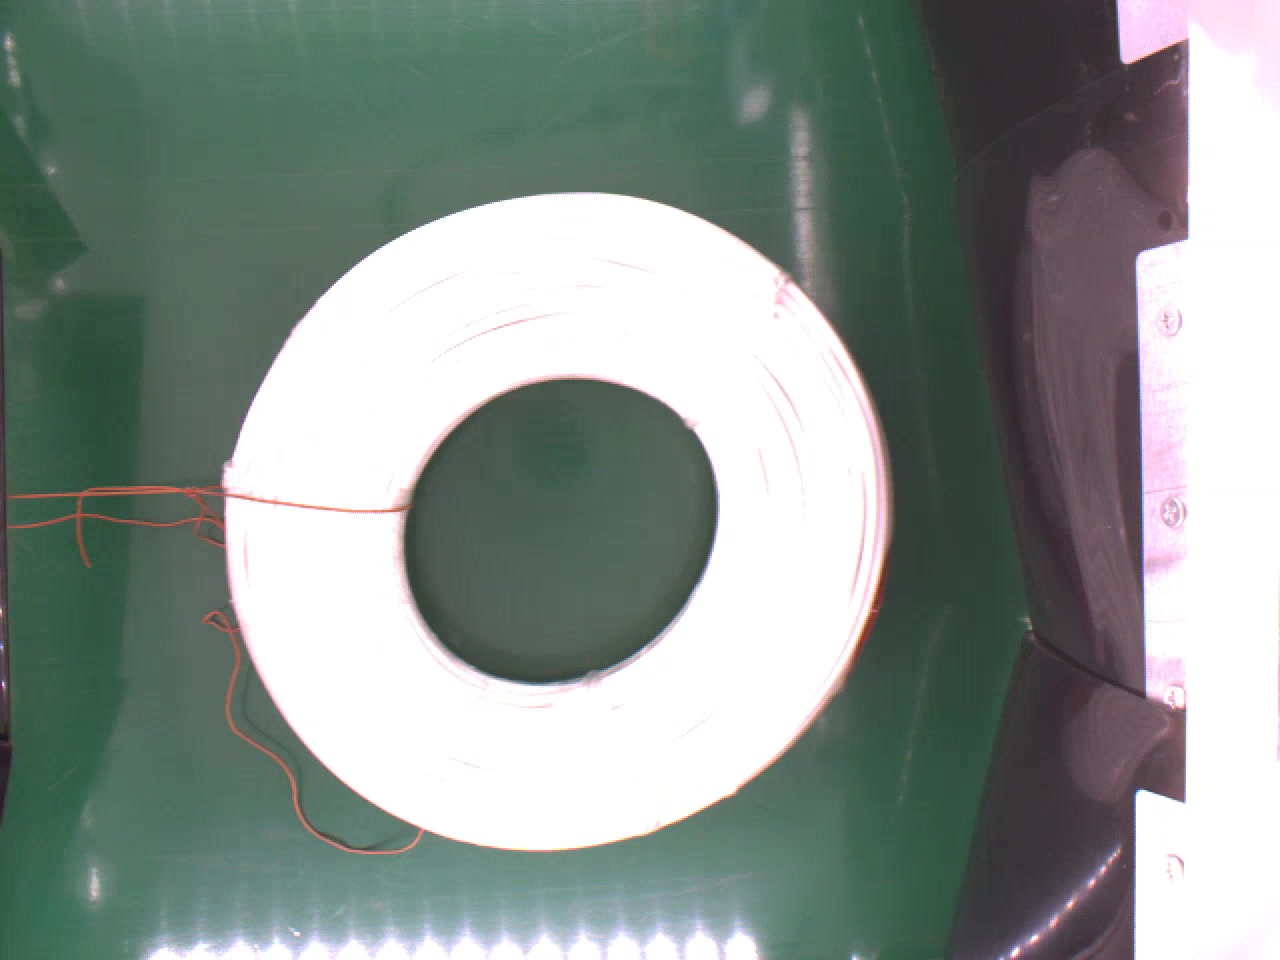white: (213, 182, 895, 847)
